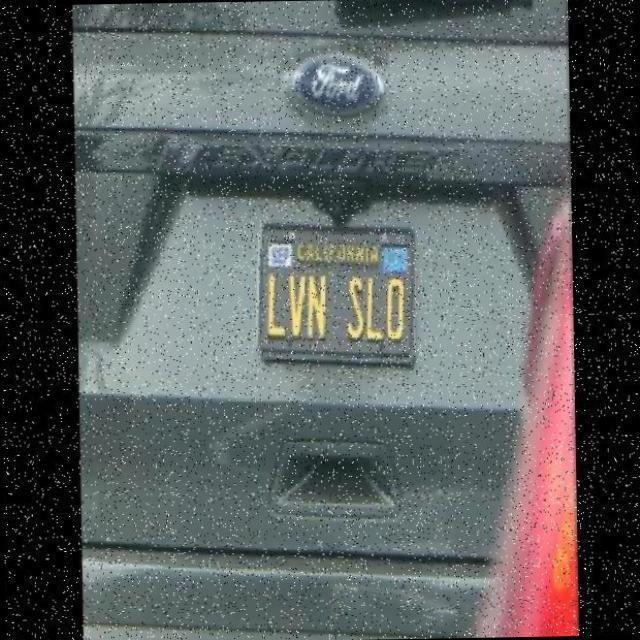license_plate: (258, 220, 416, 372)
